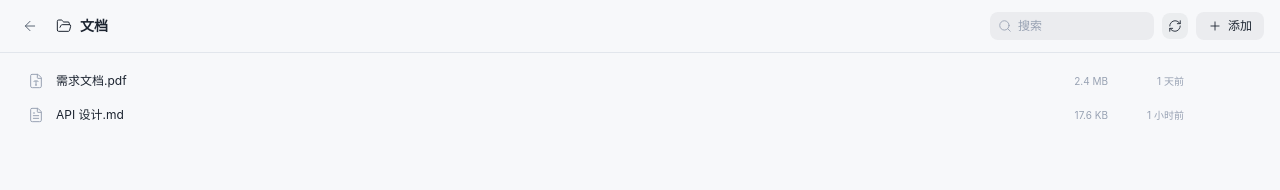
Test: DocumentsPanel › add 有 failed 时 inline 显示失败条目,不弹窗
Step 1. Click the button with test id "documents-add" → click(1230, 26), box [1196, 12, 1264, 40]
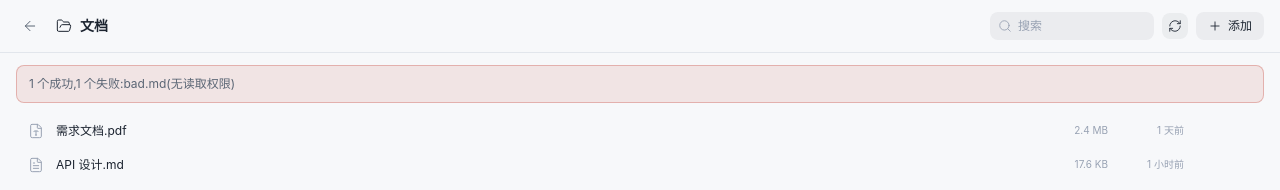
Check: the text "1 个成功,1 个失败:bad.md(无读取权限)" is shown, box [16, 65, 1264, 102]
Check: the text with test id "documents-error" shows "bad.md", box [29, 76, 235, 91]
Check: the text with test id "documents-error" shows "无读取权限", box [29, 76, 235, 91]
